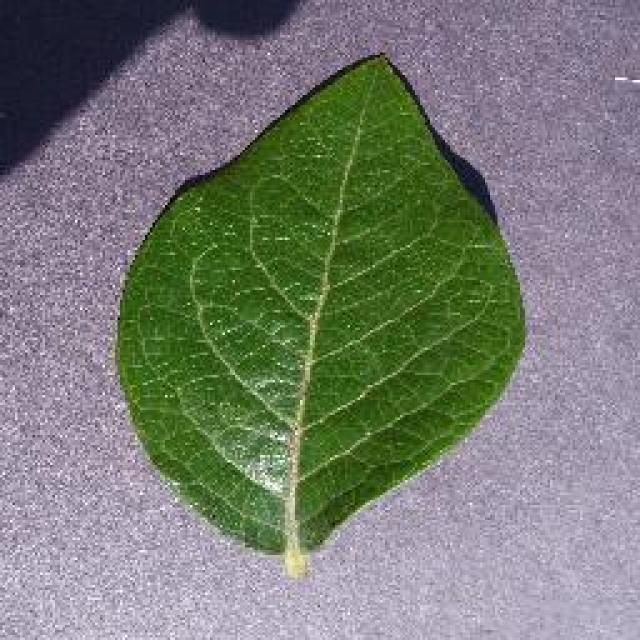Blu_healthy: (145, 149, 503, 495)
